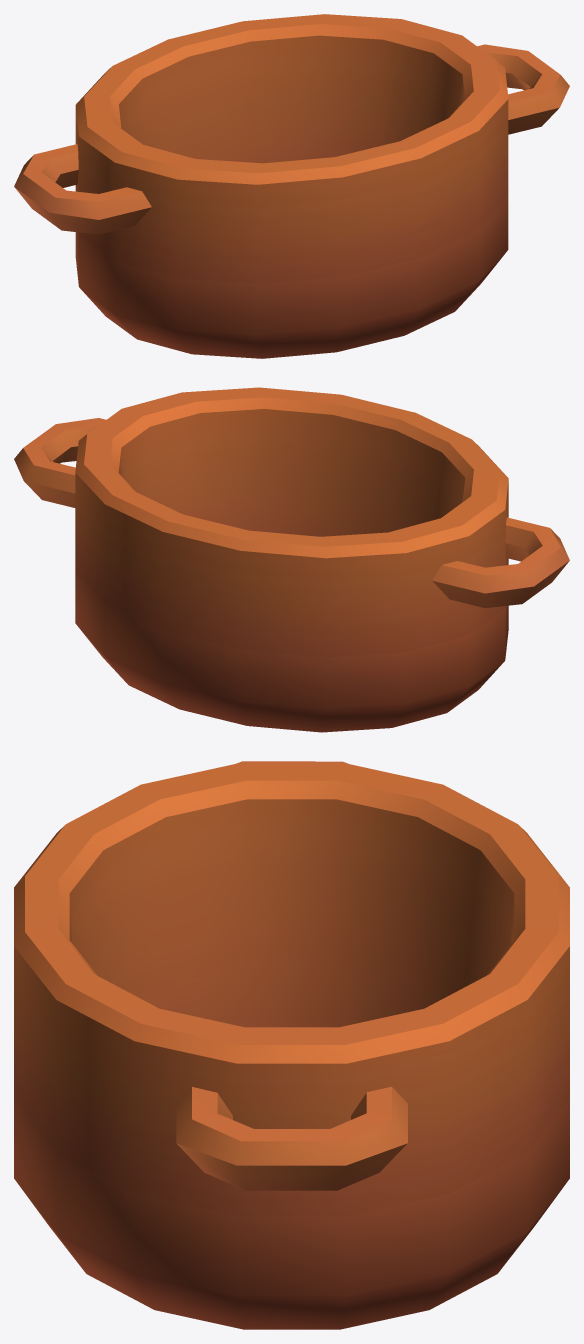
Rendered from kay-caldeirao-cozinha.gltf.
The picture shows the model from 3 angles, top to bottom: view 1: azimuth 30°, elevation 25°; view 2: azimuth 150°, elevation 25°; view 3: azimuth 270°, elevation 25°; orthographic projection. The views are drawn at different scales.
Visible parts, largest first — view 1: pot_large; view 2: pot_large; view 3: pot_large.
Boxes of the visible parts, x1,y1,x2,y2 form: pot_large: (14,14,569,358); pot_large: (14,387,569,732); pot_large: (14,761,569,1329).
Size of the model in its own units: 1.3 by 0.4876 by 0.7801.
Materials: 1 (1 with a texture image).
